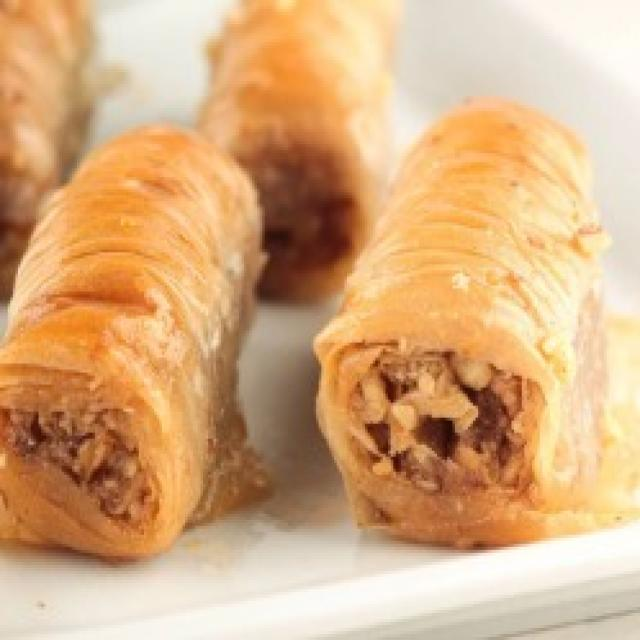yan_yemek: (311, 93, 637, 547), (2, 124, 273, 556), (200, 5, 403, 308)
